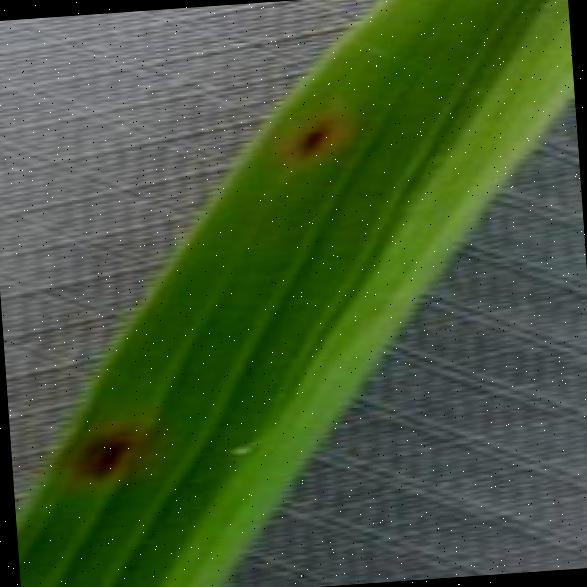Brown_Spot: (55, 408, 148, 492), (274, 102, 348, 169)
